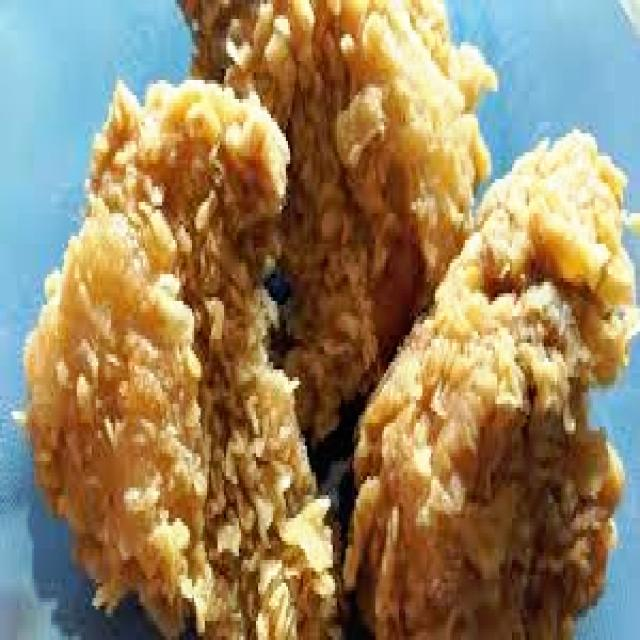fried_chicken: (30, 76, 341, 640), (343, 133, 638, 640), (179, 0, 491, 438)
